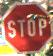Stop sign: (0, 0, 52, 55)
